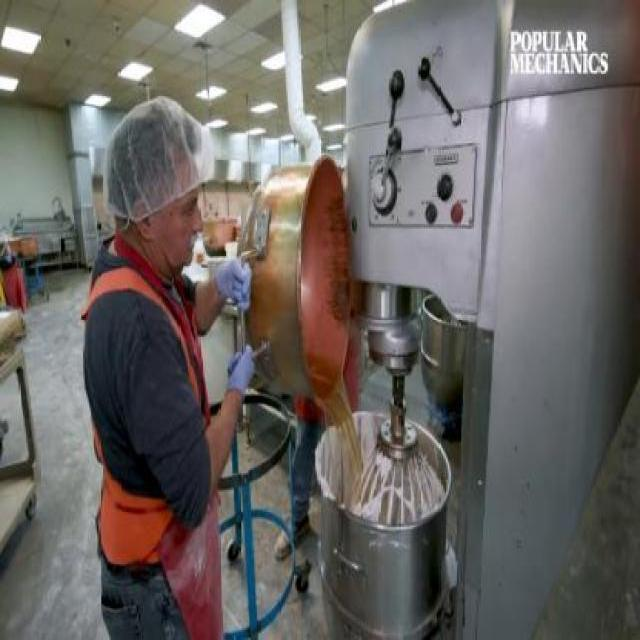gloved_hand: (211, 253, 265, 312), (224, 328, 257, 423)
